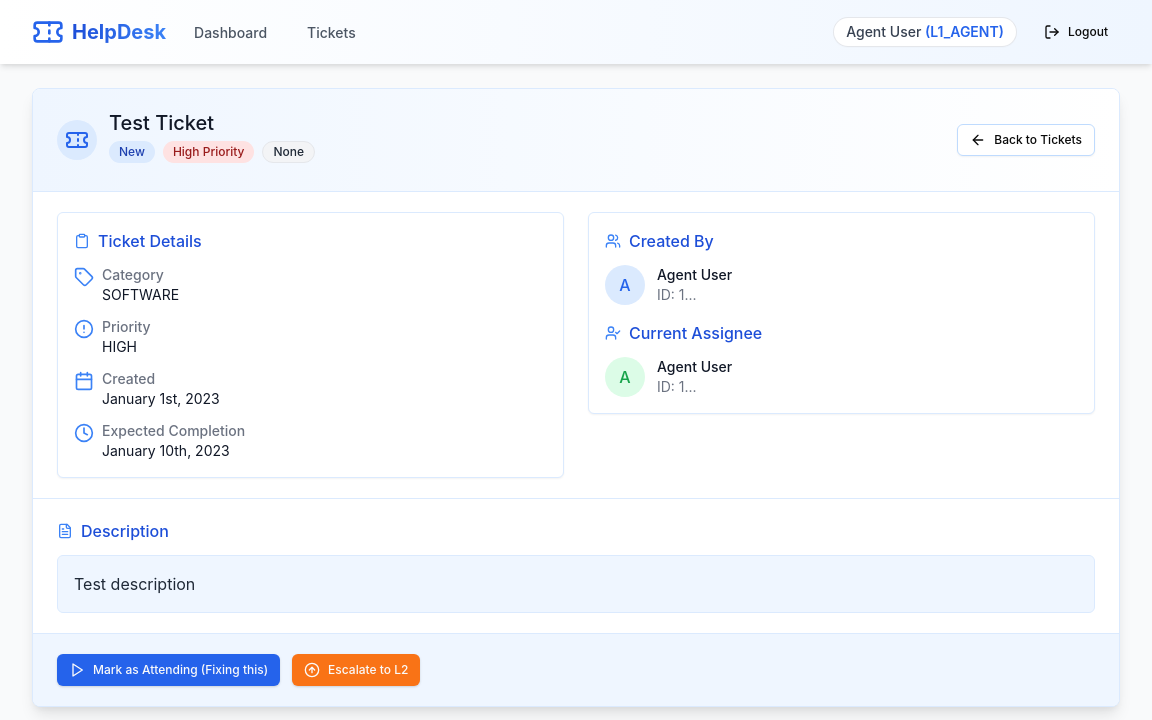
Test case: TicketDetail › handles button click events
// Test button click
Click the button "Escalate to L2". click: (356, 670)
box: [292, 654, 420, 686]
(page scrolled)
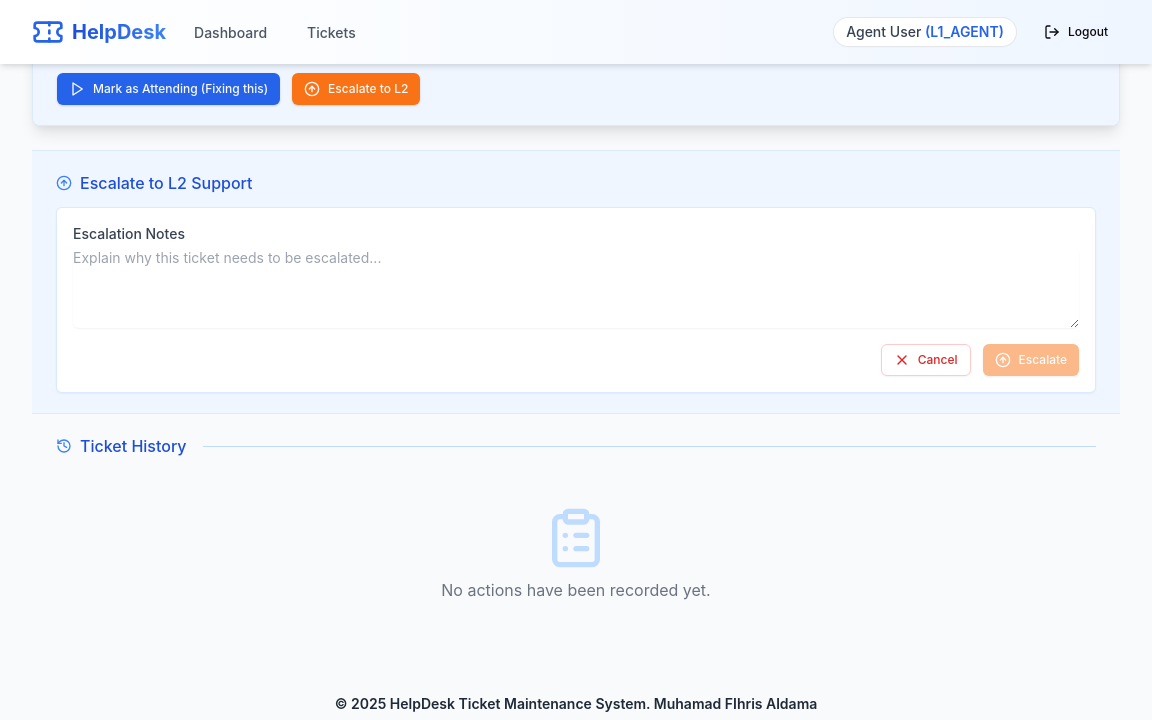
Result: the button "Cancel" is shown at [881, 344, 970, 376]
